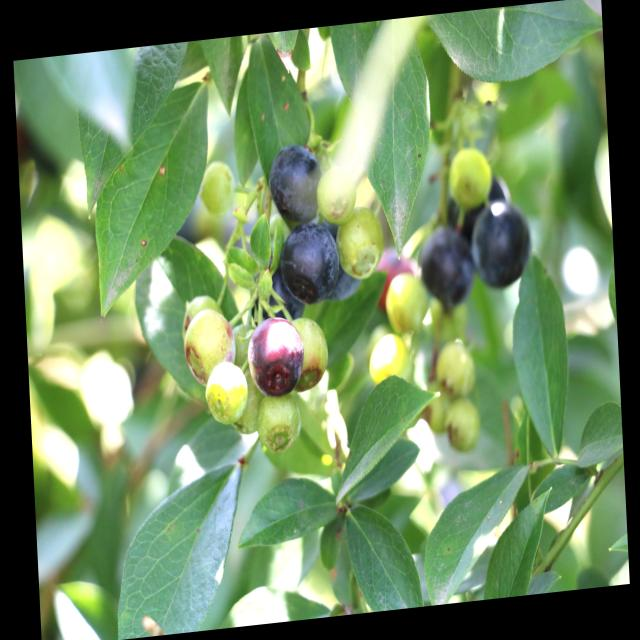blueberry: (278, 208, 342, 306), (471, 198, 536, 292), (413, 225, 478, 310), (263, 141, 323, 225), (241, 269, 304, 334), (322, 260, 368, 312)
blueberry-halfripe: (245, 310, 303, 396)
blueberry-unripe: (181, 308, 235, 384), (335, 207, 386, 282), (200, 360, 252, 433), (285, 311, 330, 395), (383, 270, 429, 336), (447, 146, 493, 204), (257, 390, 298, 452), (433, 340, 476, 395), (444, 394, 482, 453), (197, 160, 234, 218), (318, 168, 356, 222), (373, 330, 407, 388)
